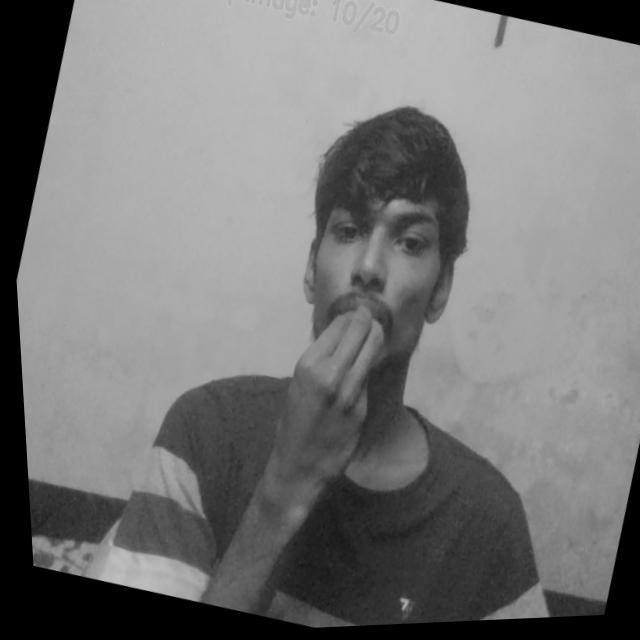Food: (257, 293, 402, 477)
